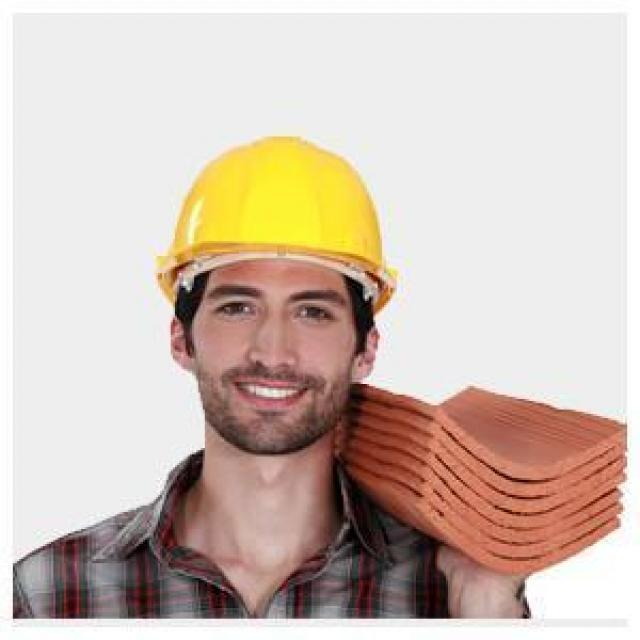hat: (156, 137, 402, 312)
